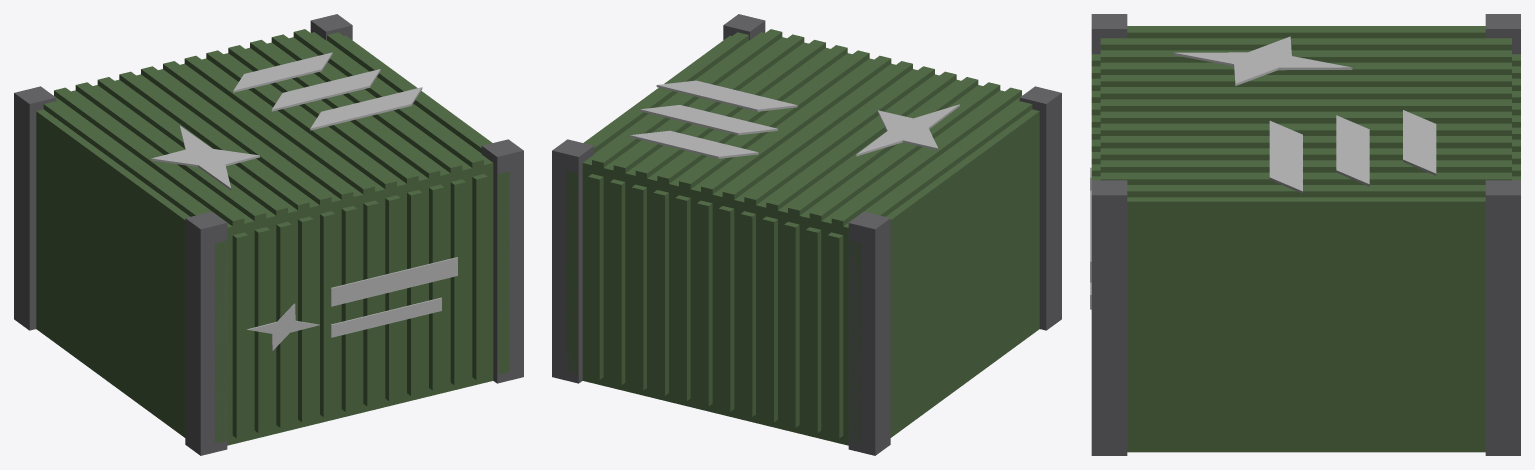
The model's file is vge_trading_container_f.obj.
3 views of the same model, side by side, from view 1: azimuth 30°, elevation 25°; view 2: azimuth 150°, elevation 25°; view 3: azimuth 270°, elevation 25° (orthographic). The views are drawn at different scales.
Parts seen in each view (by area): view 1: vge_trading_container_f_0, vge_trading_container_f_43, vge_trading_container_f_44, vge_trading_container_f_45, vge_trading_container_f_5, vge_trading_container_f_38, vge_trading_container_f_14, vge_trading_container_f_8, vge_trading_container_f_19, vge_trading_container_f_16, vge_trading_container_f_22, vge_trading_container_f_35 (+28 smaller); view 2: vge_trading_container_f_0, vge_trading_container_f_44, vge_trading_container_f_46, vge_trading_container_f_43, vge_trading_container_f_21, vge_trading_container_f_6, vge_trading_container_f_15, vge_trading_container_f_27, vge_trading_container_f_33, vge_trading_container_f_39, vge_trading_container_f_9, vge_trading_container_f_30 (+25 smaller); view 3: vge_trading_container_f_0, vge_trading_container_f_45, vge_trading_container_f_46, vge_trading_container_f_16, vge_trading_container_f_19, vge_trading_container_f_4, vge_trading_container_f_22, vge_trading_container_f_13, vge_trading_container_f_1, vge_trading_container_f_40, vge_trading_container_f_37, vge_trading_container_f_25 (+11 smaller).
Boxes of the visible parts, x1=… form: vge_trading_container_f_0: x1=36, y1=32, x2=493, y2=445; vge_trading_container_f_43: x1=185, y1=211, x2=227, y2=455; vge_trading_container_f_44: x1=14, y1=86, x2=56, y2=330; vge_trading_container_f_45: x1=481, y1=139, x2=523, y2=383; vge_trading_container_f_5: x1=232, y1=232, x2=248, y2=438; vge_trading_container_f_38: x1=472, y1=174, x2=487, y2=379; vge_trading_container_f_14: x1=298, y1=216, x2=313, y2=422; vge_trading_container_f_8: x1=254, y1=227, x2=269, y2=432; vge_trading_container_f_19: x1=163, y1=61, x2=353, y2=199; vge_trading_container_f_16: x1=141, y1=66, x2=331, y2=204; vge_trading_container_f_22: x1=184, y1=55, x2=374, y2=194; vge_trading_container_f_35: x1=450, y1=179, x2=465, y2=385; vge_trading_container_f_0: x1=582, y1=32, x2=1039, y2=445; vge_trading_container_f_44: x1=848, y1=211, x2=890, y2=455; vge_trading_container_f_46: x1=552, y1=139, x2=594, y2=383; vge_trading_container_f_43: x1=1019, y1=86, x2=1061, y2=330; vge_trading_container_f_21: x1=718, y1=206, x2=734, y2=411; vge_trading_container_f_6: x1=827, y1=232, x2=843, y2=438; vge_trading_container_f_15: x1=762, y1=216, x2=777, y2=422; vge_trading_container_f_27: x1=675, y1=195, x2=690, y2=401; vge_trading_container_f_33: x1=631, y1=184, x2=646, y2=390; vge_trading_container_f_39: x1=588, y1=174, x2=603, y2=379; vge_trading_container_f_9: x1=806, y1=227, x2=821, y2=432; vge_trading_container_f_30: x1=653, y1=190, x2=668, y2=395; vge_trading_container_f_0: x1=1127, y1=197, x2=1485, y2=452; vge_trading_container_f_45: x1=1091, y1=180, x2=1127, y2=455; vge_trading_container_f_46: x1=1485, y1=180, x2=1520, y2=455; vge_trading_container_f_16: x1=1100, y1=87, x2=1511, y2=99; vge_trading_container_f_19: x1=1100, y1=99, x2=1511, y2=111; vge_trading_container_f_4: x1=1100, y1=38, x2=1511, y2=50; vge_trading_container_f_22: x1=1100, y1=111, x2=1511, y2=123; vge_trading_container_f_13: x1=1100, y1=75, x2=1511, y2=86; vge_trading_container_f_1: x1=1127, y1=26, x2=1485, y2=38; vge_trading_container_f_40: x1=1127, y1=185, x2=1485, y2=197; vge_trading_container_f_37: x1=1100, y1=172, x2=1511, y2=184; vge_trading_container_f_25: x1=1100, y1=123, x2=1511, y2=135.
Size of the model in its own units: 1.94 by 1.3 by 1.95.
